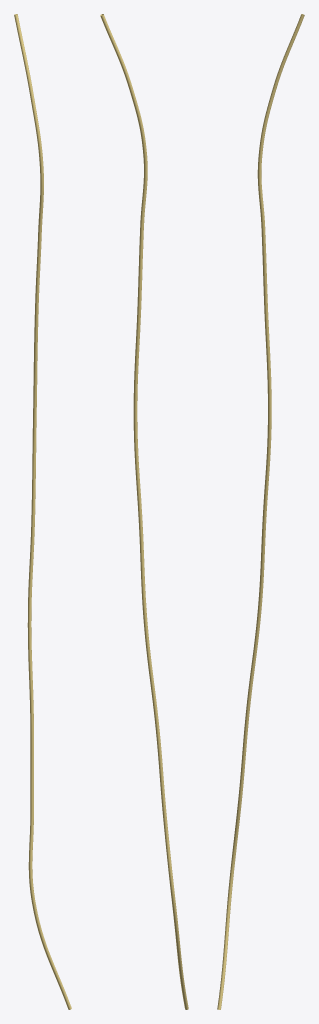
3 views of the same model, side by side, from view 1: azimuth 90°, elevation 25°; view 2: azimuth 150°, elevation 25°; view 3: azimuth 330°, elevation 25° (orthographic). The views are drawn at different scales.
Visible parts, largest first — view 1: ZA_f652a64c8ecb160d; view 2: ZA_f652a64c8ecb160d; view 3: ZA_f652a64c8ecb160d.
Part boxes in pixels (x1,y1,x2,y2): ZA_f652a64c8ecb160d: (14, 14, 71, 1009); ZA_f652a64c8ecb160d: (100, 14, 188, 1009); ZA_f652a64c8ecb160d: (217, 14, 304, 1009).
Size of the model in its own units: 0.0203 by 0.2907 by 0.0157.
